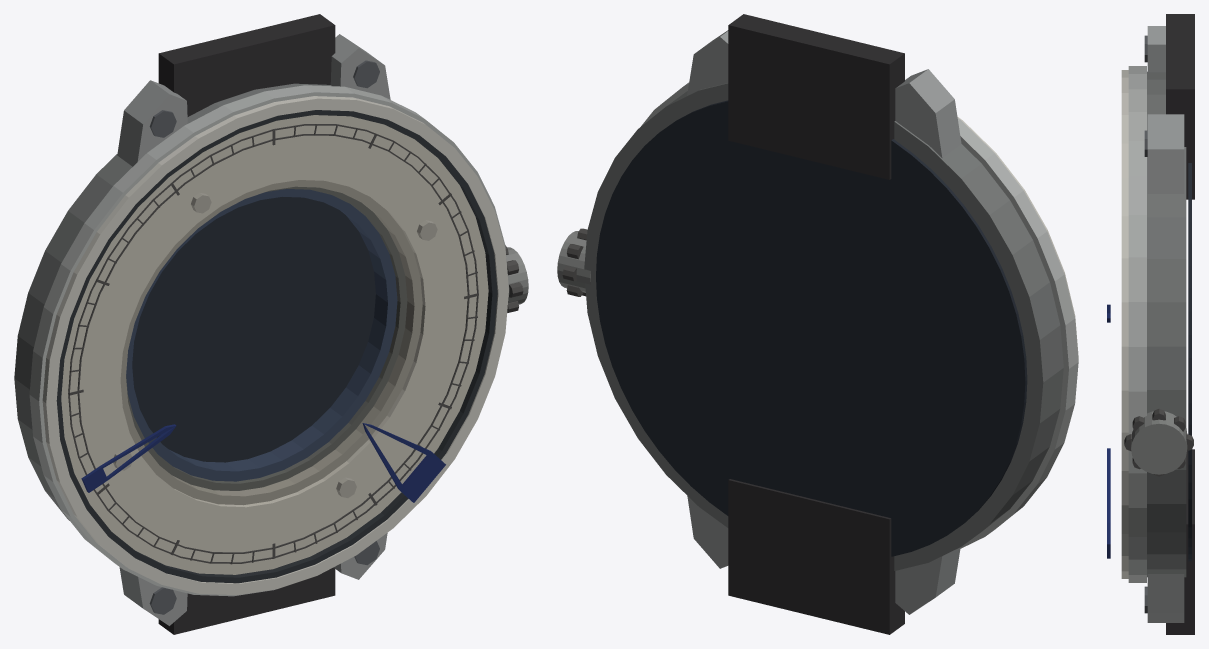
The model's file is Case.glb.
The picture shows the model from 3 angles, left to right: view 1: azimuth 30°, elevation 25°; view 2: azimuth 150°, elevation 25°; view 3: azimuth 270°, elevation 25°; orthographic projection. The views are drawn at different scales.
Visible parts, largest first — view 1: Case; view 2: Case; view 3: Case.
Part boxes in pixels (bbox=[...]): Case: bbox=[14, 14, 528, 634]; Case: bbox=[557, 14, 1078, 634]; Case: bbox=[1107, 14, 1194, 634].
Size of the model in its own units: 2.8 by 3.11 by 0.4545.
